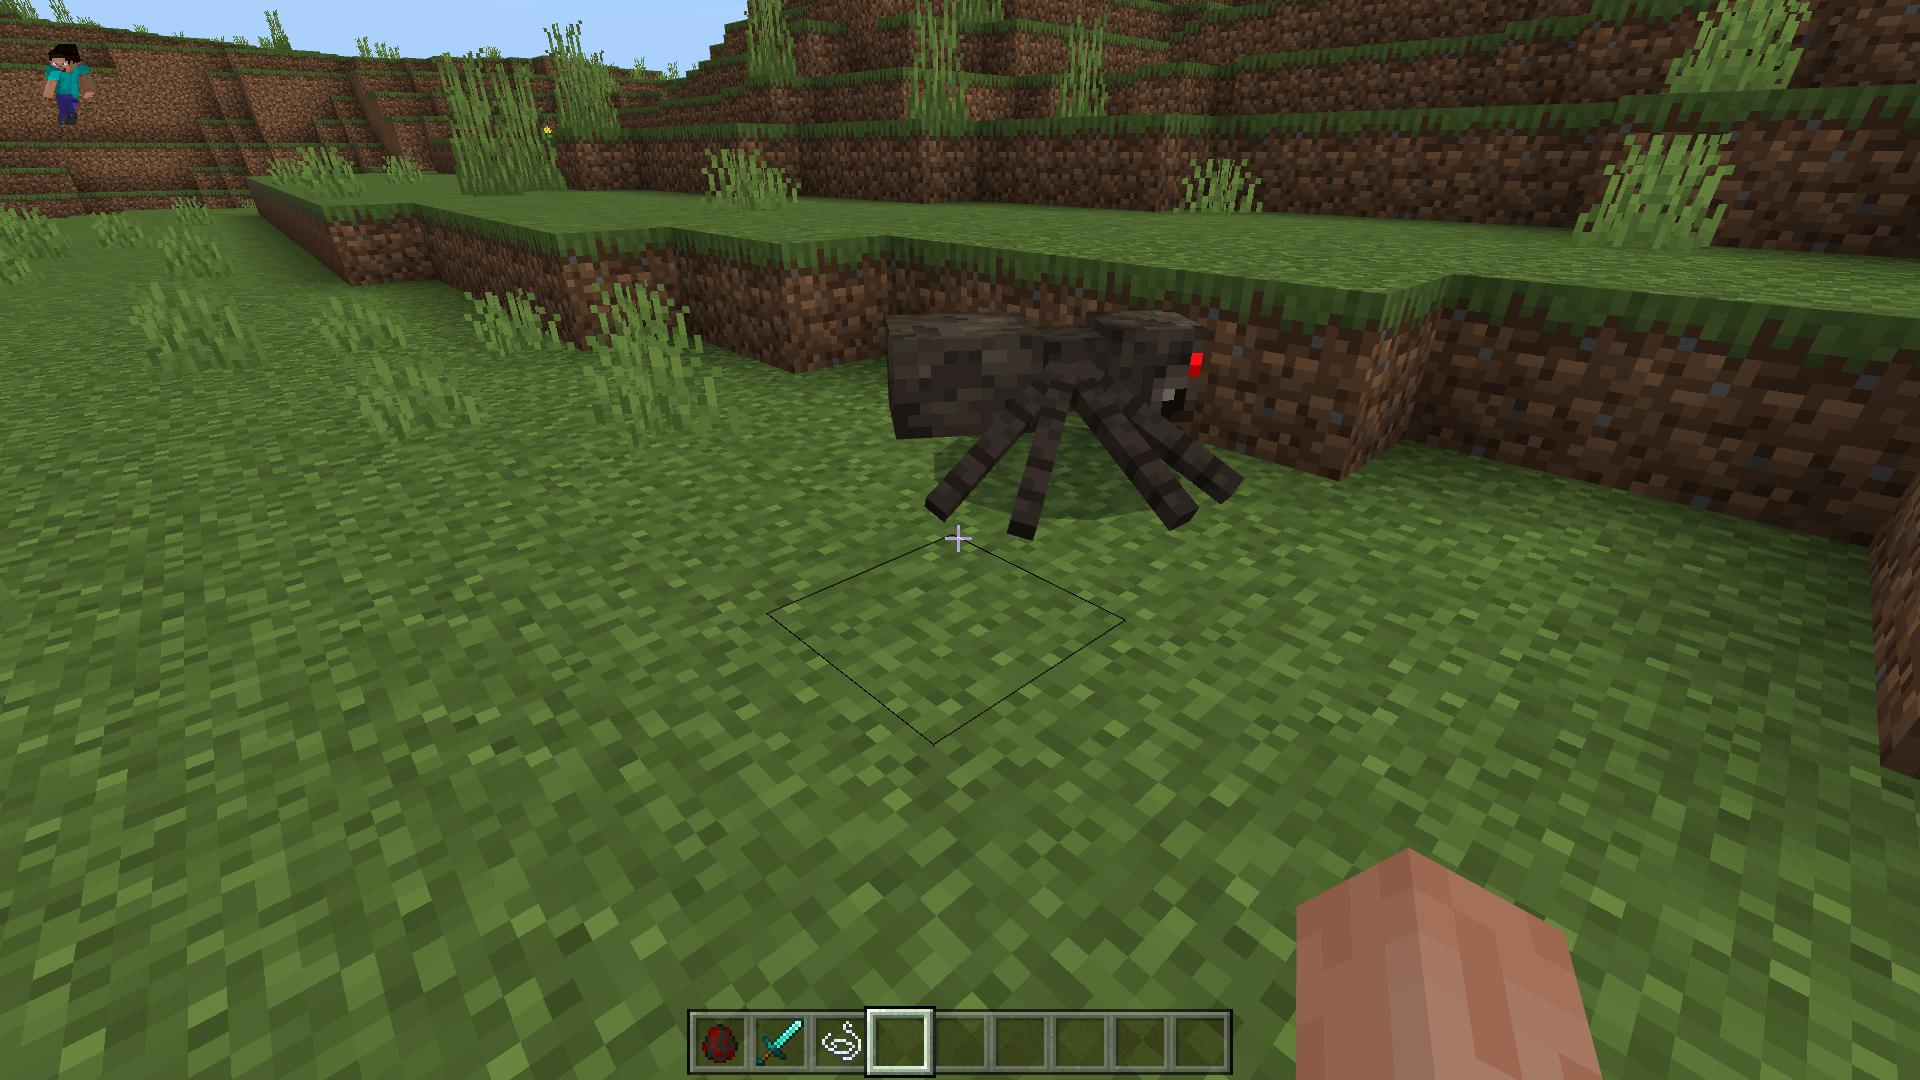spider: (877, 310, 1245, 541)
